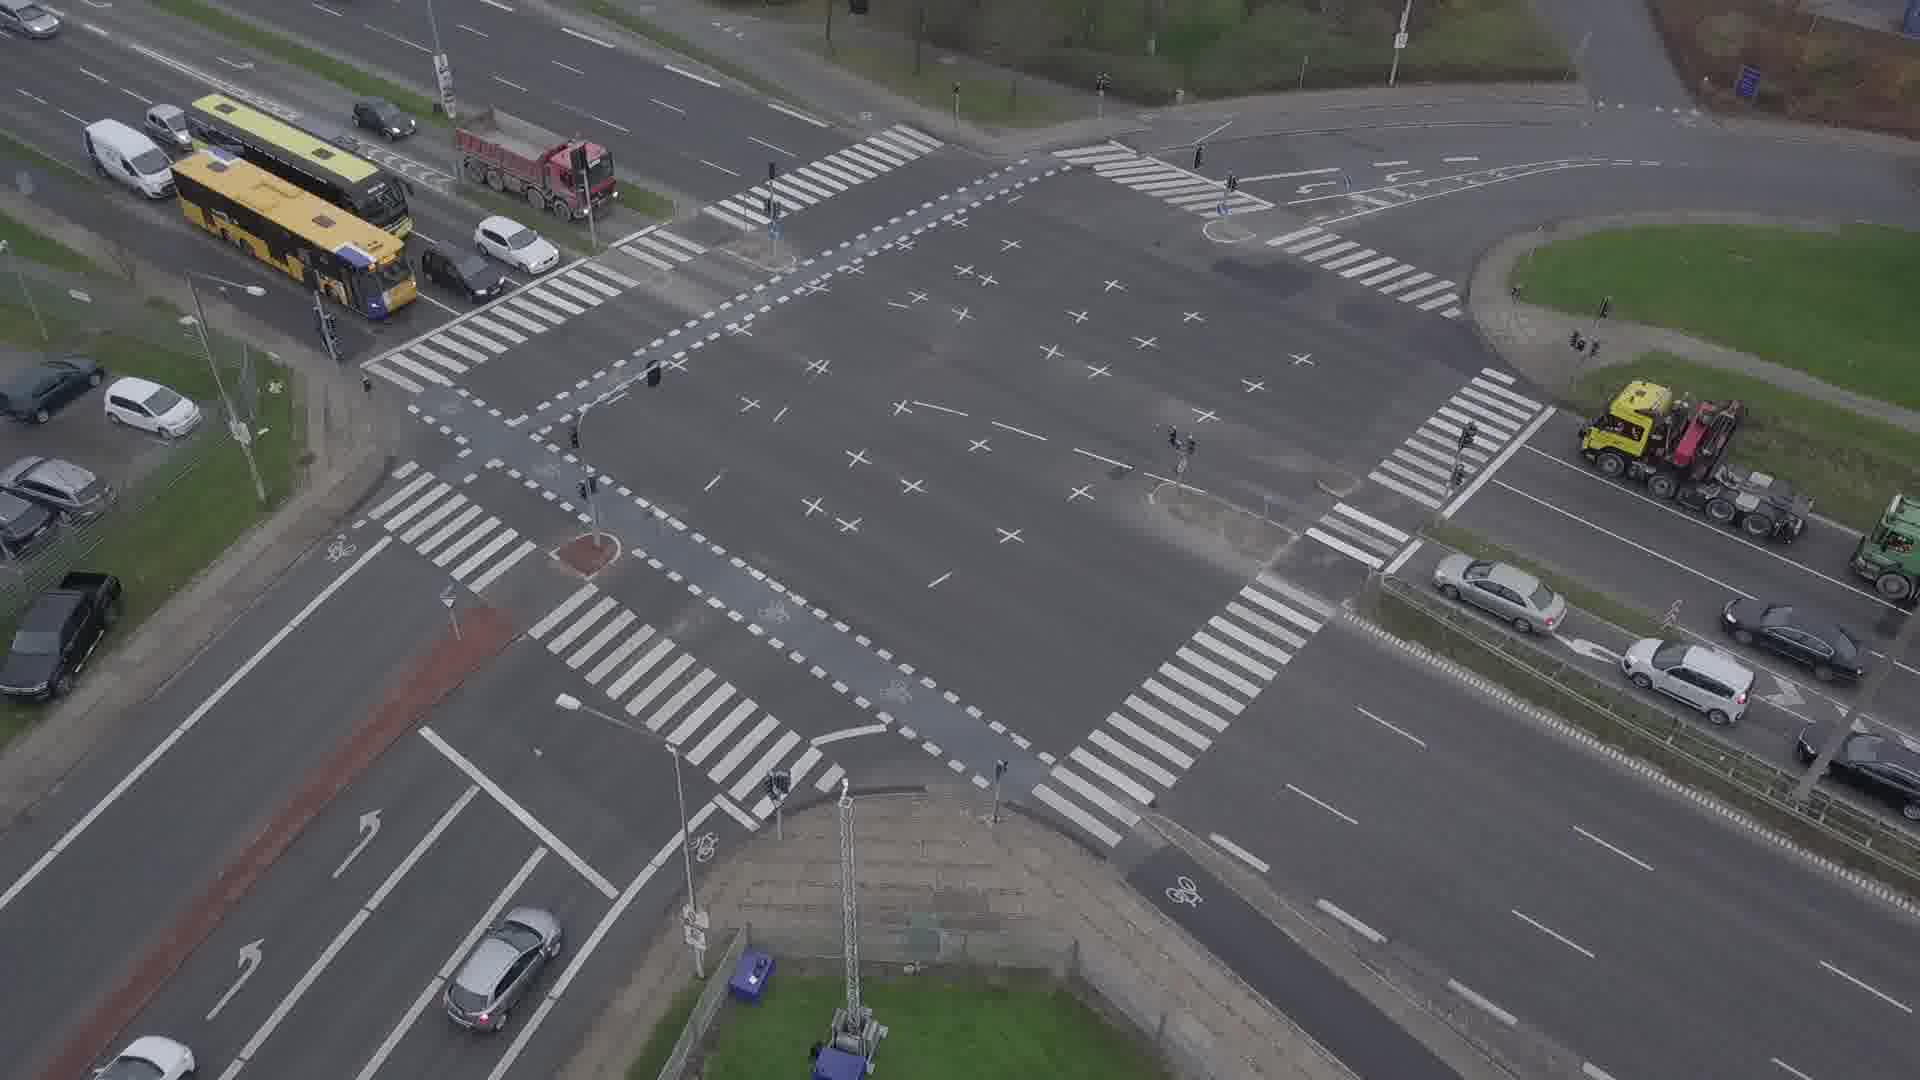car: (443, 905, 563, 1030), (1724, 597, 1871, 680), (1796, 723, 1920, 822), (1623, 637, 1753, 724), (1432, 554, 1567, 634), (472, 214, 559, 276), (421, 240, 508, 302), (349, 96, 415, 142), (295, 115, 363, 152), (0, 0, 59, 40), (144, 104, 179, 148)
